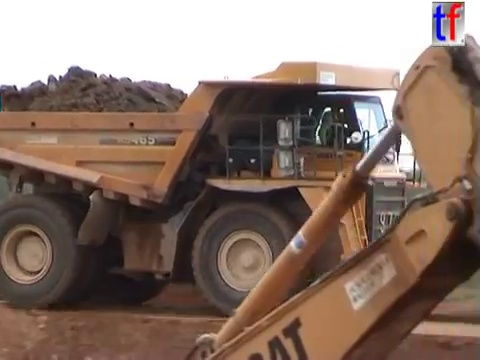excavator: (181, 30, 480, 360)
truck: (1, 57, 446, 320)
